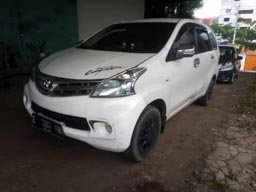plat: (31, 114, 62, 140)
